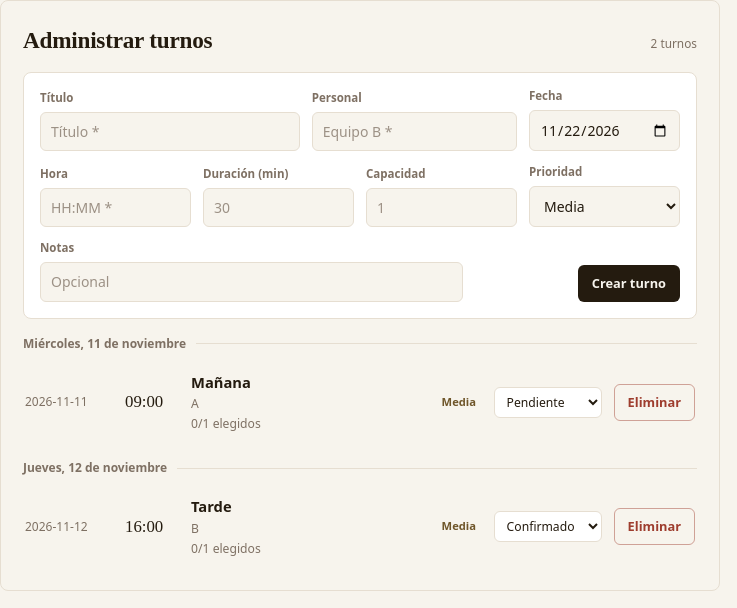
Scenario: TurnoAdmin (componente del administrador) › removes a turn only after confirm()
The width and height of the screenshot is (737, 608).
What coordinates should you click on to do the following:
click the button "Eliminar" in the row of "2026-11-11"
I would click on:
 (654, 402)
Its box is 614,384 -> 695,421.
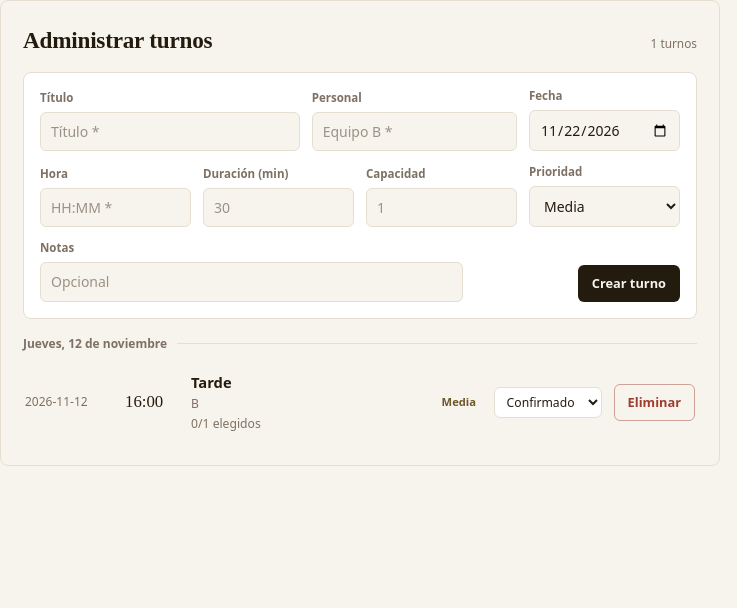
Result: the number of list items is 1 at 23,361 -> 697,443
